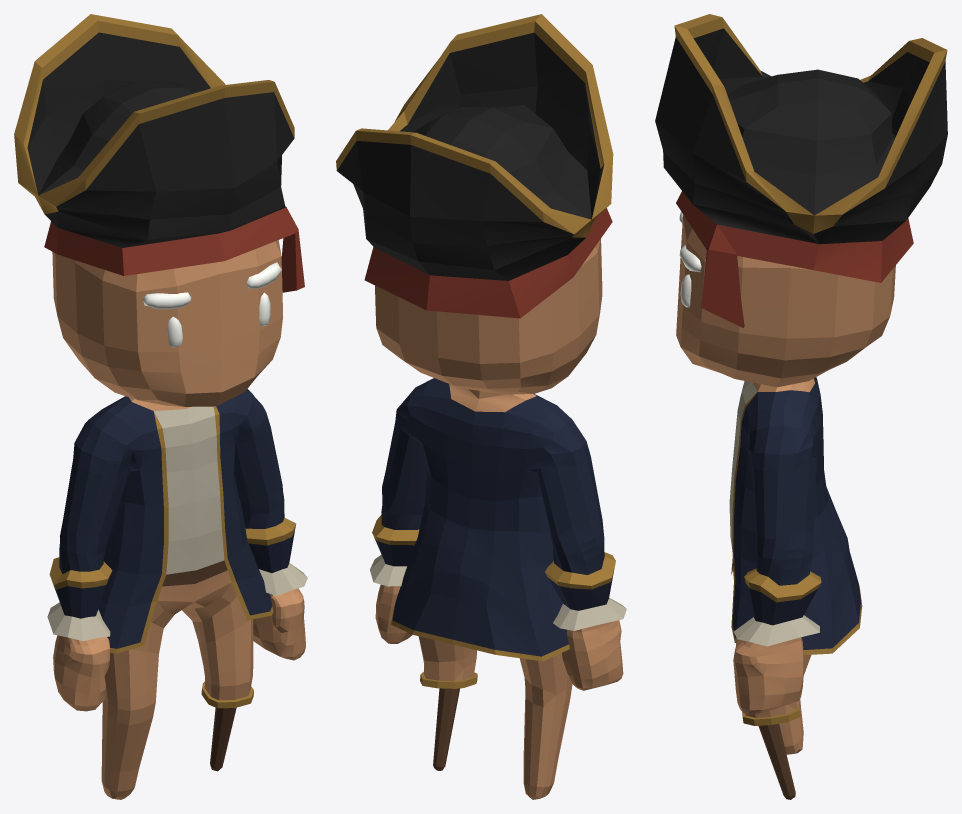
The model's file is debout-pirate-male.glb.
3 views of the same model, side by side, from view 1: azimuth 30°, elevation 25°; view 2: azimuth 150°, elevation 25°; view 3: azimuth 270°, elevation 25° (orthographic). The views are drawn at different scales.
Visible parts, largest first — view 1: Cube004, Cube004_6, Cube004_2, Cube004_3, Cube004_1, Cube004_7, Cube004_5, Cube004_4; view 2: Cube004_2, Cube004_6, Cube004, Cube004_3, Cube004_7, Cube004_1, Cube004_4; view 3: Cube004_6, Cube004, Cube004_2, Cube004_3, Cube004_7, Cube004_1, Cube004_4, Cube004_5.
Boxes of the visible parts, bbox=[...] form: Cube004: bbox=[52, 240, 305, 799]; Cube004_6: bbox=[27, 32, 294, 247]; Cube004_2: bbox=[52, 389, 294, 648]; Cube004_3: bbox=[14, 14, 296, 708]; Cube004_1: bbox=[47, 406, 307, 641]; Cube004_7: bbox=[44, 207, 304, 292]; Cube004_5: bbox=[142, 262, 281, 347]; Cube004_4: bbox=[162, 560, 236, 771]; Cube004_2: bbox=[374, 378, 613, 656]; Cube004_6: bbox=[337, 32, 604, 280]; Cube004: bbox=[375, 239, 623, 799]; Cube004_3: bbox=[336, 14, 615, 688]; Cube004_7: bbox=[364, 208, 612, 318]; Cube004_1: bbox=[370, 554, 626, 630]; Cube004_4: bbox=[433, 688, 459, 770]; Cube004_6: bbox=[655, 28, 947, 244]; Cube004: bbox=[676, 215, 895, 754]; Cube004_2: bbox=[732, 377, 860, 649]; Cube004_3: bbox=[674, 14, 947, 725]; Cube004_7: bbox=[676, 191, 913, 327]; Cube004_1: bbox=[729, 381, 819, 646]; Cube004_4: bbox=[732, 548, 795, 799]; Cube004_5: bbox=[679, 211, 701, 307].
Bounding box in the file's own units: 0.6325 × 1.78 × 0.6273.
